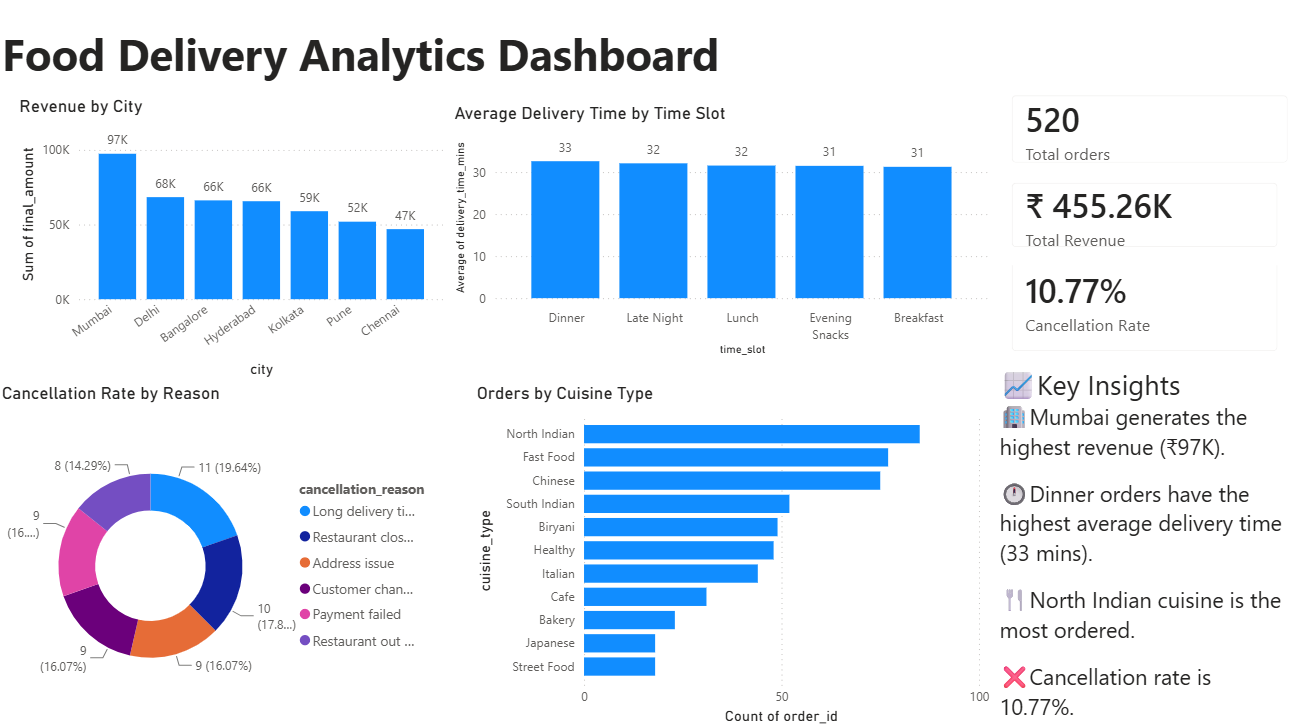

Layout of this report page (visuals, bound fields, positions):
{"tool":"powerbi","page":{"name":"Page 1","canvas":[1280,720],"ordinal":0},"visuals":[{"type":"clusteredColumnChart","title":"Revenue by City","fields":{"Category":["public orders.city"],"Y":["Sum(public orders.final_amount)"]},"box":[17.1,100.3,425.5,281.3],"z":0},{"type":"clusteredColumnChart","title":"Average Delivery Time by Time Slot","fields":{"Category":["public orders.time_slot"],"Y":["Avg(public orders.delivery_time_mins)"]},"box":[442.7,107.6,533.2,251.9],"z":1000},{"type":"donutChart","title":"Cancellation Rate by Reason","fields":{"Category":["public orders.cancellation_reason"],"Y":["CountNonNull(public orders.order_id)"]},"box":[0,381.5,425.5,338.7],"z":2000},{"type":"cardVisual","fields":{"Data":["public orders.Cancellation Rate"]},"box":[975.8,233.6,294.7,134.5],"z":3000},{"type":"clusteredBarChart","title":"Orders by Cuisine Type","fields":{"Category":["public orders.cuisine_type"],"Y":["CountNonNull(public orders.order_id)"]},"box":[464.7,381.5,511.1,338.7],"z":4000},{"type":"cardVisual","fields":{"Data":["Sum(public orders.final_amount)"]},"box":[975.8,168.8,294.7,97.8],"z":4001},{"type":"cardVisual","fields":{"Data":["CountNonNull(public orders.customer_id)"]},"box":[975.8,83.2,304.5,100.3],"z":4003},{"type":"textbox","box":[0,6.9,736.9,87.8],"z":4004},{"type":"textbox","box":[975.8,359.5,294.7,360.7],"z":4005}]}

Visuals, with their boxes in screenshot pixels (x1, y1, x2, y2), scaled from the page's 1280x720 canvas onto the 1303x727 screenshot:
"Revenue by City" clusteredColumnChart: Rect(17, 101, 451, 385)
"Average Delivery Time by Time Slot" clusteredColumnChart: Rect(451, 109, 993, 363)
"Cancellation Rate by Reason" donutChart: Rect(0, 385, 433, 726)
cardVisual - public orders.Cancellation Rate: Rect(993, 236, 1293, 372)
"Orders by Cuisine Type" clusteredBarChart: Rect(473, 385, 993, 726)
cardVisual - Sum(public orders.final_amount): Rect(993, 170, 1293, 269)
cardVisual - CountNonNull(public orders.customer_id): Rect(993, 84, 1302, 185)
textbox: Rect(0, 7, 750, 96)
textbox: Rect(993, 363, 1293, 726)
